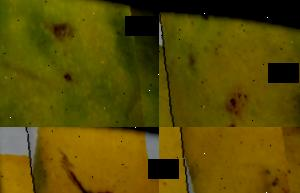PartiallyRipe: (0, 0, 159, 127), (159, 0, 300, 127)
Ripe: (0, 127, 159, 193), (159, 127, 300, 193)
